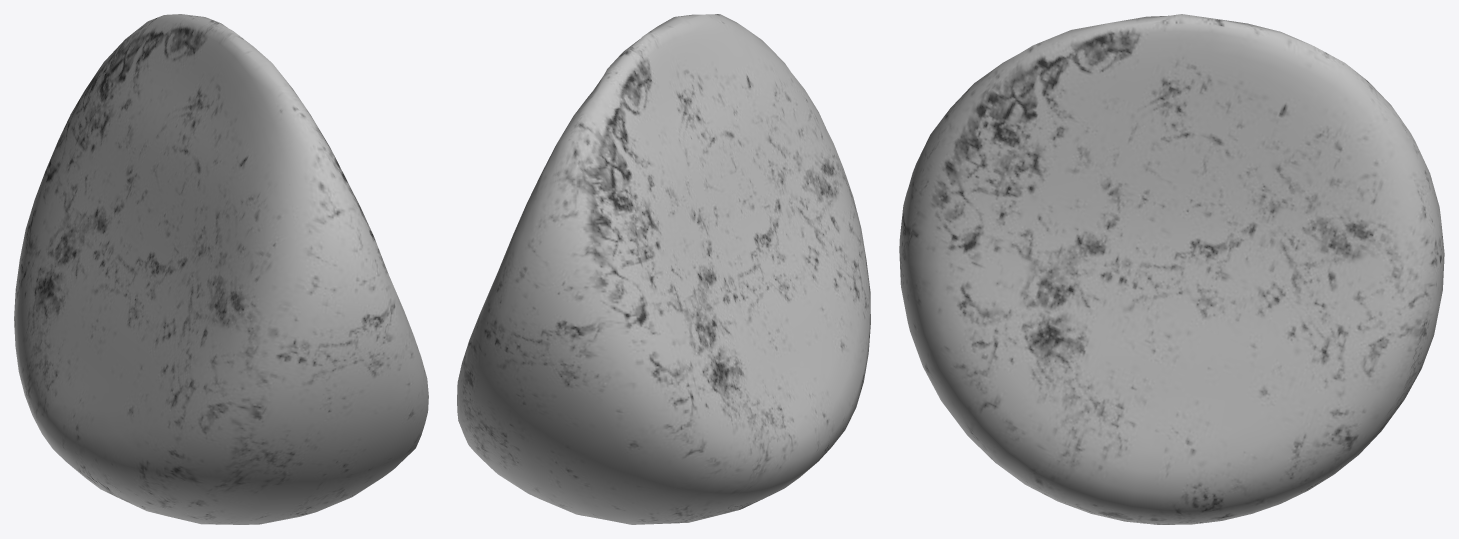
The model's file is Horn_Low.fbx.
3 renders of one model, left to right at view 1: azimuth 30°, elevation 25°; view 2: azimuth 150°, elevation 25°; view 3: azimuth 270°, elevation 25°, orthographic. The views are drawn at different scales.
Visible parts, largest first — view 1: Quad Sphere; view 2: Quad Sphere; view 3: Quad Sphere.
Part boxes in pixels (x1=…): Quad Sphere: x1=14, y1=14, x2=428, y2=524; Quad Sphere: x1=457, y1=14, x2=870, y2=524; Quad Sphere: x1=899, y1=14, x2=1444, y2=524.
Bounding box in the file's own units: 66.94 × 97.52 × 98.79.
Materials: 1 (1 with a texture image).
